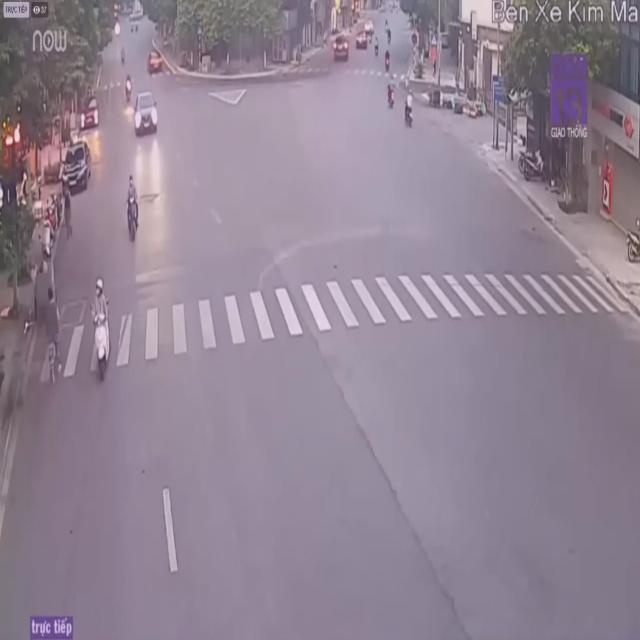car: (64, 140, 91, 190), (132, 94, 158, 142)
motorbike: (91, 280, 112, 381), (126, 173, 141, 242)
